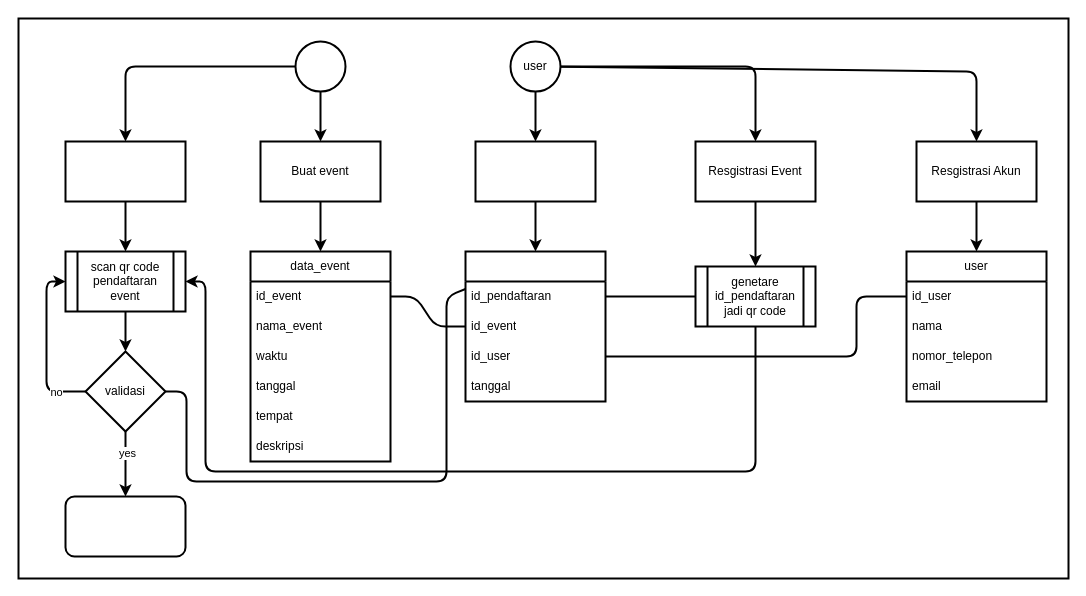
This 1086x596 diagram has some shape labels left out. The box of each missing label's shape, as (x1, y1, x2, y2) in pixels:
admin: (294, 40, 346, 92)
Daftar Event: (474, 140, 596, 202)
daftar_event: (464, 250, 606, 402)
id tersedia: (64, 495, 186, 557)
Scan Event: (64, 140, 186, 202)
